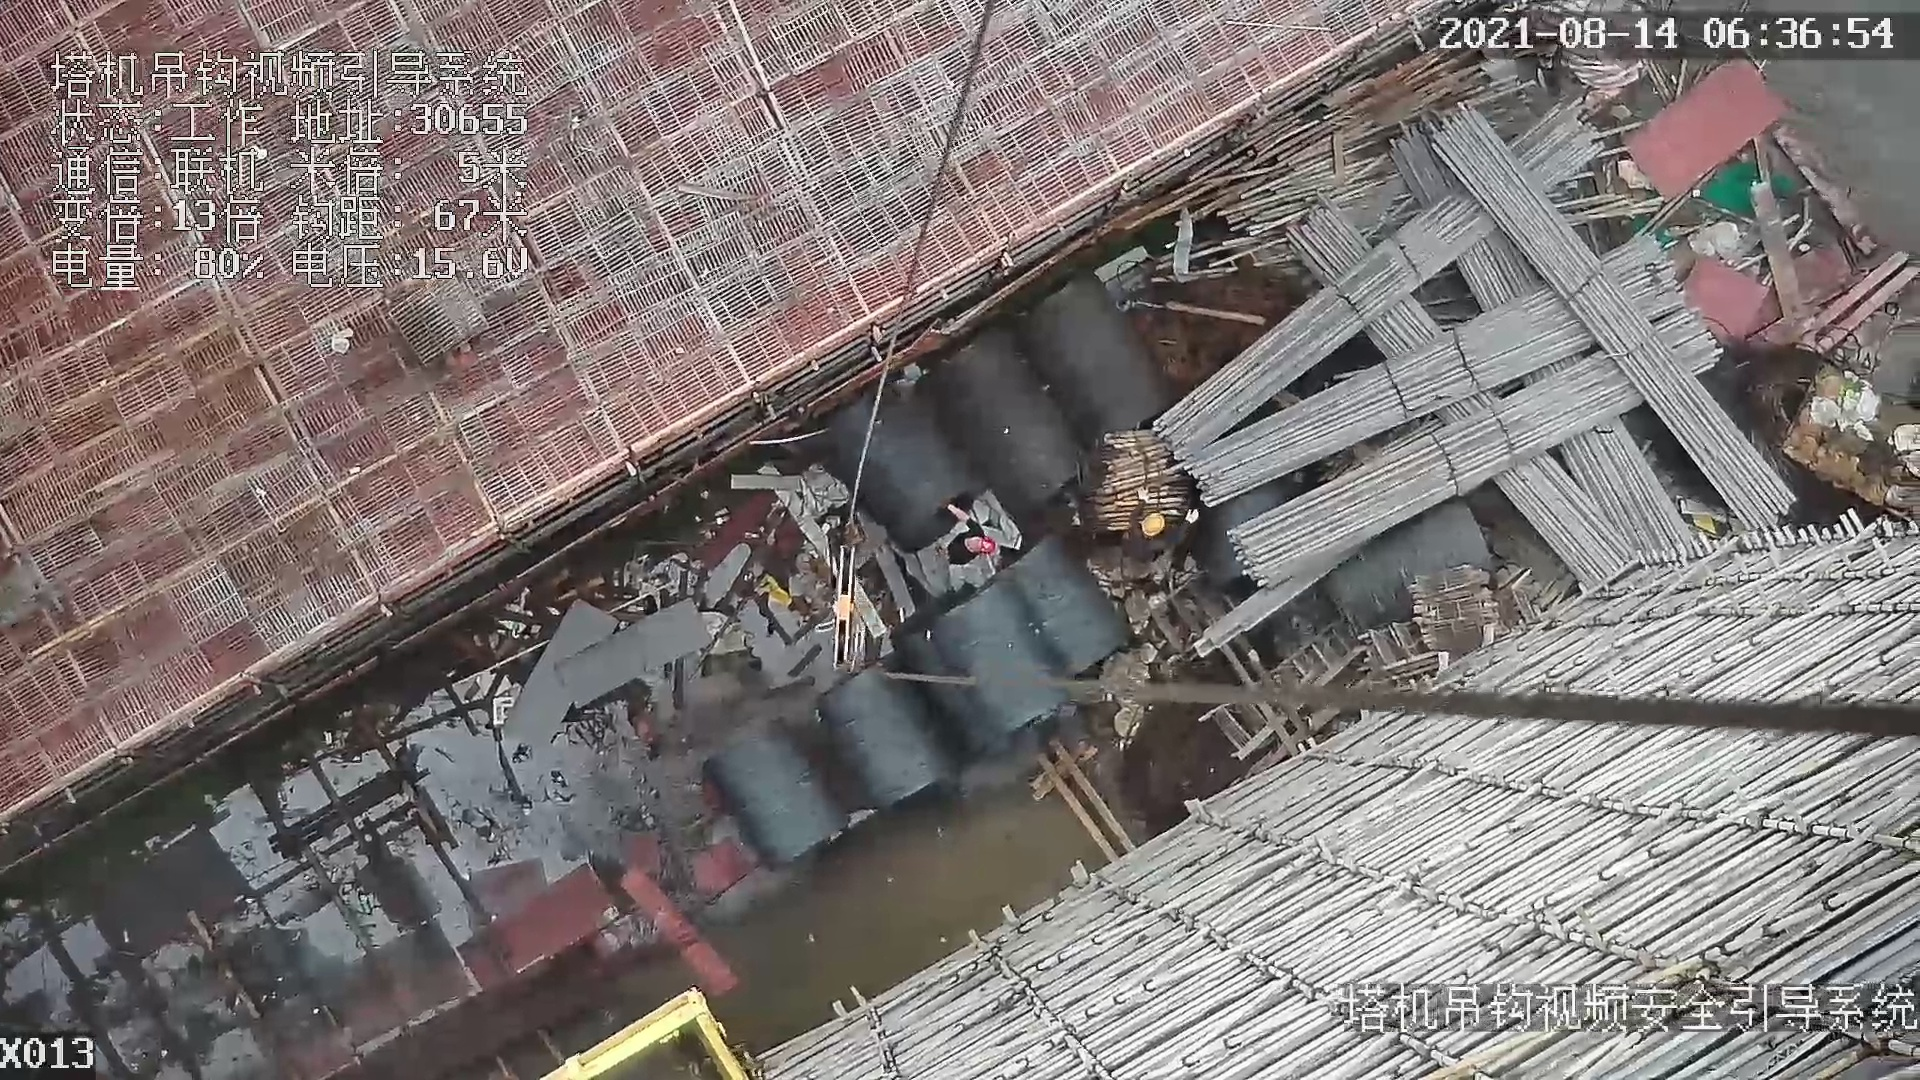helmet: (1140, 509, 1166, 537), (977, 534, 996, 561)
hook: (822, 544, 867, 678)
person: (1126, 489, 1204, 562), (938, 497, 996, 574)
scaffold: (1197, 117, 1808, 595), (1069, 418, 1226, 547)
